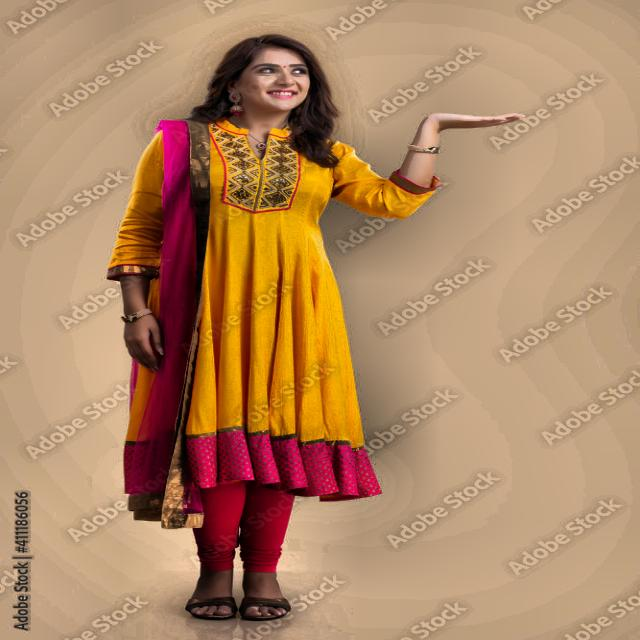Human: (88, 5, 454, 640)
